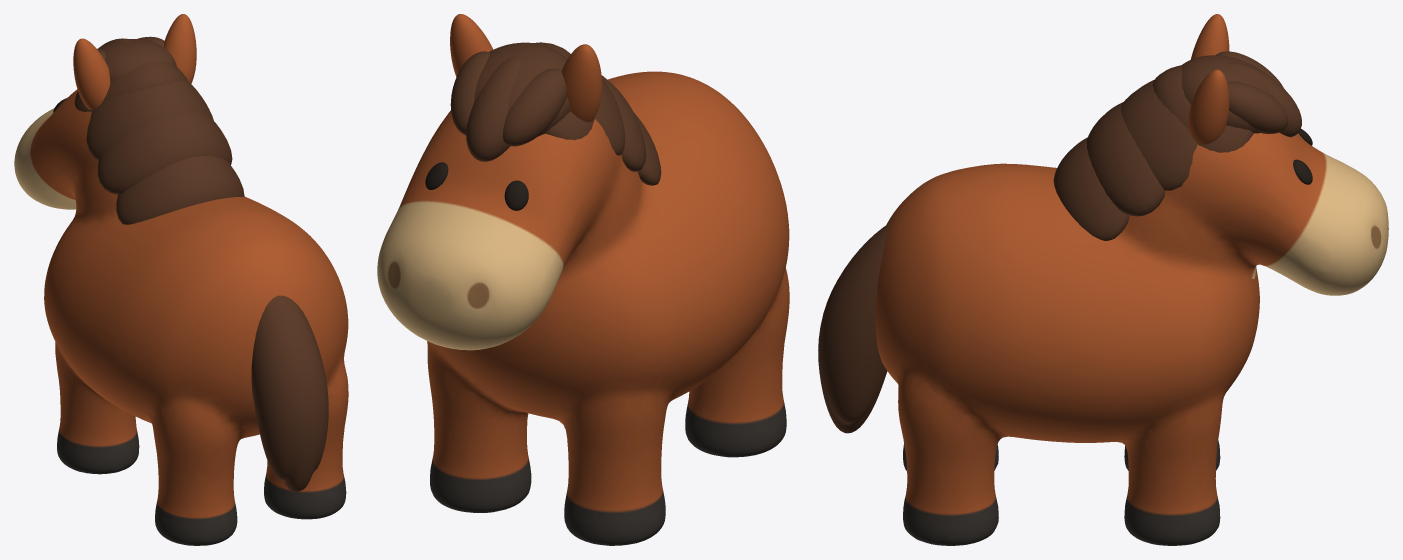
3 views of the same model, side by side, from view 1: azimuth 30°, elevation 25°; view 2: azimuth 150°, elevation 25°; view 3: azimuth 270°, elevation 25° (orthographic). The views are drawn at different scales.
Bounding box in the file's own units: 0.9044 × 1.5 × 1.69.
1 material, 1 textured.
